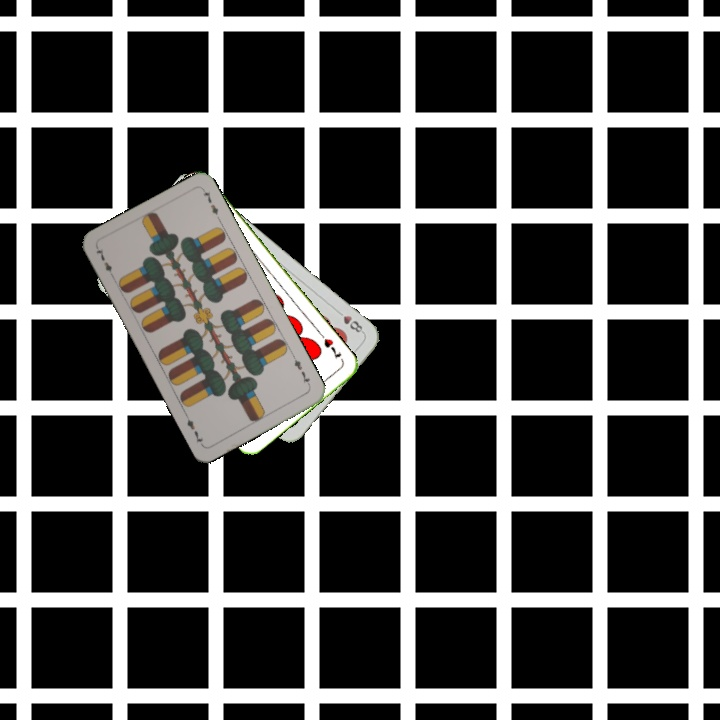E7: (92, 244, 117, 281), (289, 352, 313, 390)
H7: (320, 334, 344, 361)
H8: (332, 306, 366, 336)
